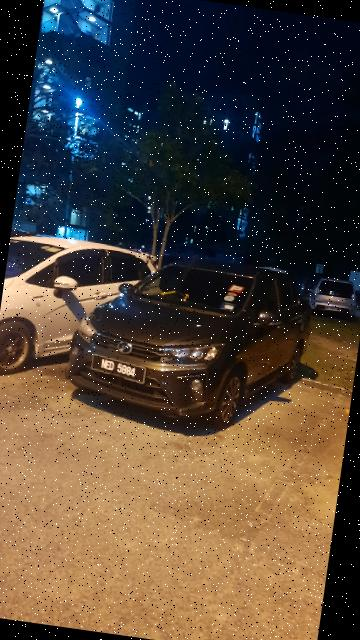License_Plate: (87, 353, 148, 386)
car: (60, 244, 321, 442), (1, 227, 172, 392)
